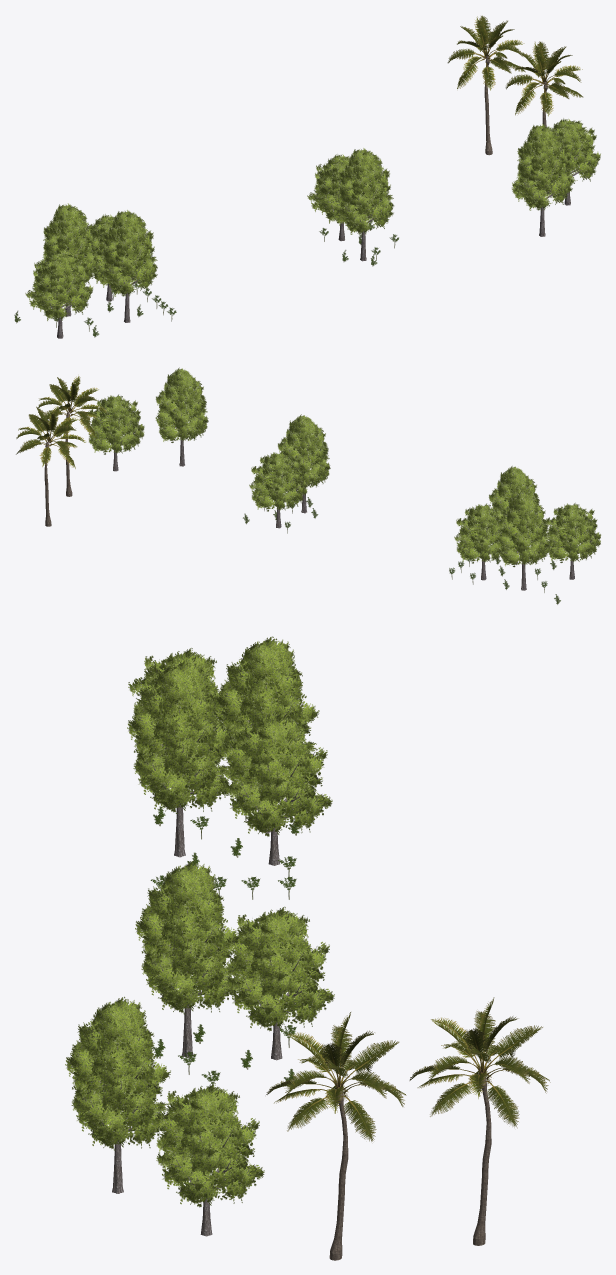
Rendered from Est-Arboles_.glb.
3 renders of one model, top to bottom at view 1: azimuth 30°, elevation 25°; view 2: azimuth 150°, elevation 25°; view 3: azimuth 270°, elevation 25°, orthographic. The views are drawn at different scales.
Parts seen in each view (by area): view 1: tree4_leaves_0, Palm, Plant_Bush1_Plant_Texture_0; view 2: tree4_leaves_0, Palm, Plant_Bush1_Plant_Texture_0; view 3: tree4_leaves_0, Palm, Plant_Bush1_Plant_Texture_0.
Part boxes in pixels (x1,y1,x2,y2): tree4_leaves_0: (25,118,600,338); Palm: (447,15,583,155); Plant_Bush1_Plant_Texture_0: (14,221,398,337); tree4_leaves_0: (86,367,601,590); Palm: (16,376,106,526); Plant_Bush1_Plant_Texture_0: (243,497,560,604); tree4_leaves_0: (65,636,334,1236); Palm: (266,997,550,1260); Plant_Bush1_Plant_Texture_0: (150,806,299,1086).
Bounding box in the file's own units: 0.7229 × 0.164 × 0.2931.
Materials: 5 (5 with a texture image).
